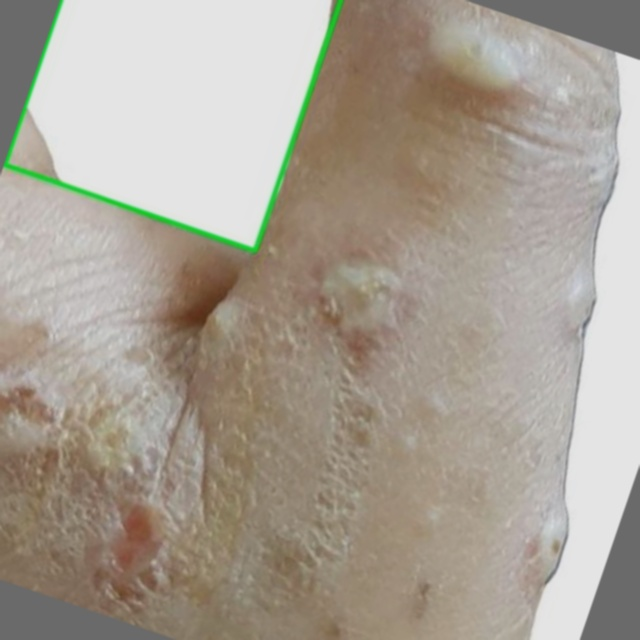Scabies: (4, 0, 340, 250)
